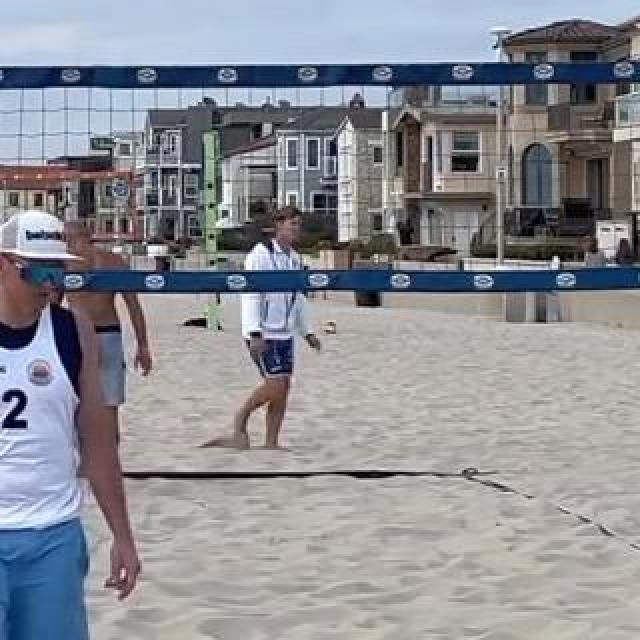volleyball: (323, 321, 337, 335)
